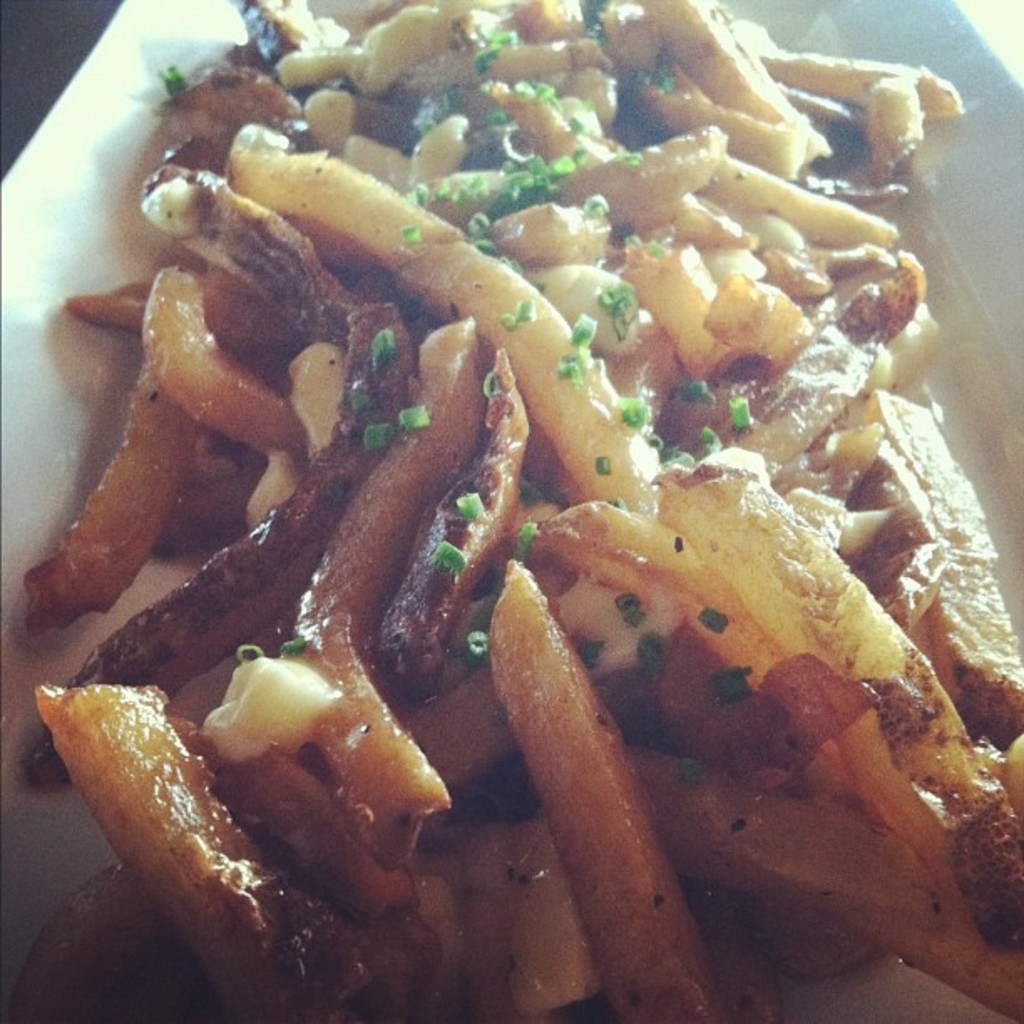French fries: (0, 61, 982, 1012)
